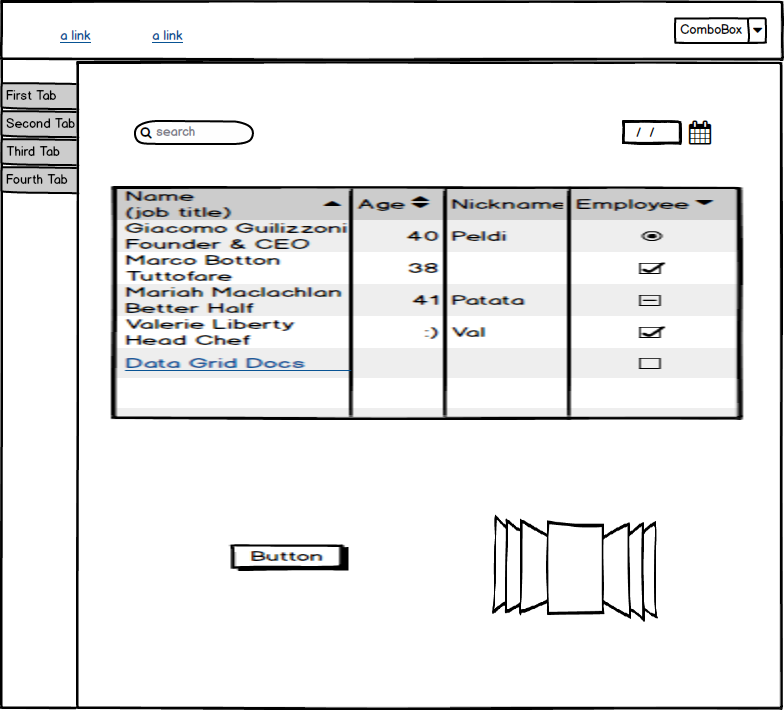button: (222, 539, 359, 577)
date_picker: (612, 115, 717, 153)
navlink: (53, 25, 99, 47), (148, 26, 187, 47)
search: (126, 110, 258, 151)
select_box: (667, 12, 773, 48)
sidebar: (1, 77, 80, 197)
slideshow: (485, 510, 662, 627)
table: (105, 177, 750, 426)
